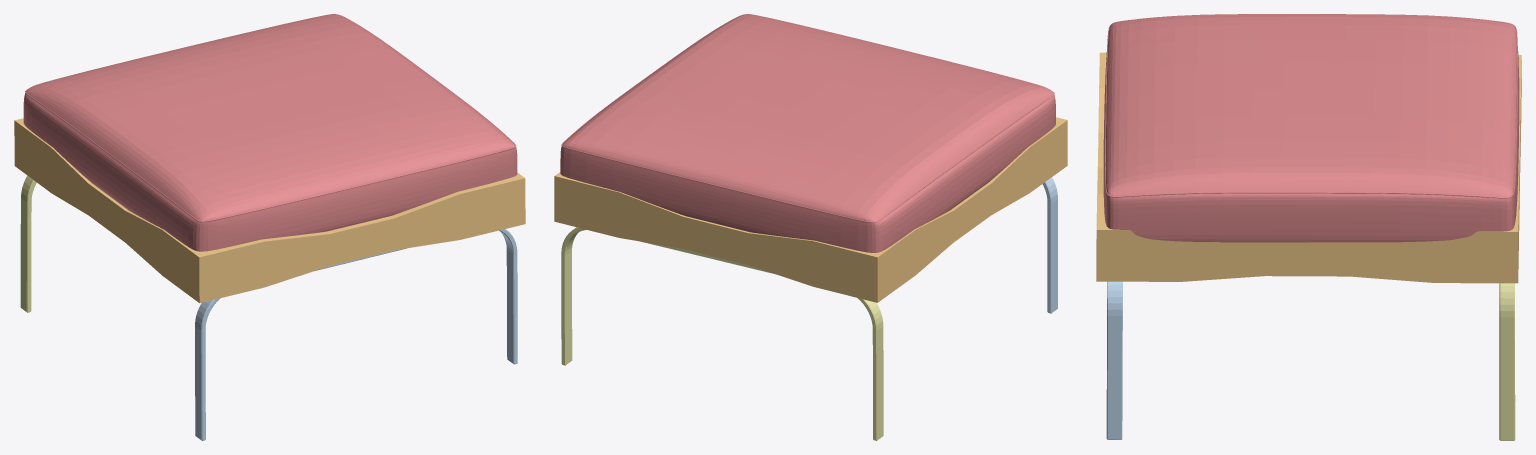
File: 55104_assembly.glb
3 renders of one model, left to right at view 1: azimuth 30°, elevation 25°; view 2: azimuth 150°, elevation 25°; view 3: azimuth 270°, elevation 25°, orthographic. The views are drawn at different scales.
Visible parts, largest first — view 1: part_00, part_01, part_03, part_02; view 2: part_00, part_01, part_02, part_03; view 3: part_00, part_01, part_03, part_02.
Boxes of the visible parts, x1=… form: part_00: x1=23, y1=14, x2=517, y2=251; part_01: x1=14, y1=118, x2=525, y2=303; part_03: x1=195, y1=229, x2=517, y2=440; part_02: x1=20, y1=175, x2=36, y2=312; part_00: x1=560, y1=14, x2=1055, y2=252; part_01: x1=554, y1=117, x2=1067, y2=302; part_02: x1=561, y1=227, x2=883, y2=440; part_03: x1=1042, y1=177, x2=1057, y2=313; part_00: x1=1103, y1=14, x2=1519, y2=242; part_01: x1=1096, y1=52, x2=1521, y2=283; part_03: x1=1106, y1=281, x2=1122, y2=439; part_02: x1=1499, y1=283, x2=1515, y2=440.
Bounding box in the file's own units: 1.01 × 0.6971 × 1.01.
